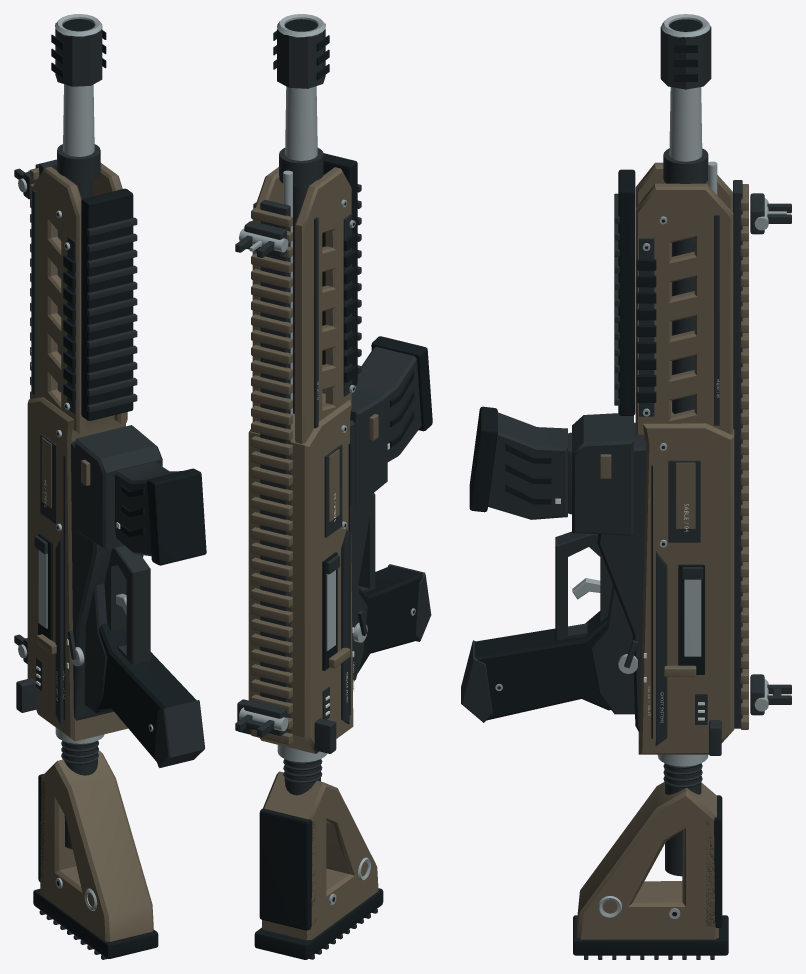
Rendered from rifle.glb.
3 renders of one model, left to right at view 1: azimuth 30°, elevation 25°; view 2: azimuth 150°, elevation 25°; view 3: azimuth 270°, elevation 25°, orthographic. The views are drawn at different scales.
Parts seen in each view (by area): view 1: 02_Graphite, 01_Cerakote, 04_Elastomer, 01_Cerakote.001, 04_Elastomer.001, 03_Titanium, 04_Elastomer.002, 02_Graphite.001, 02_Graphite.002, 03_Titanium.002; view 2: 01_Cerakote, 02_Graphite, 04_Elastomer, 01_Cerakote.001, 04_Elastomer.002, 03_Titanium, 02_Graphite.001, 04_Elastomer.001, 02_Graphite.002, 03_Titanium.002; view 3: 01_Cerakote, 02_Graphite, 04_Elastomer, 01_Cerakote.001, 02_Graphite.001, 03_Titanium, 04_Elastomer.002, 04_Elastomer.001, 02_Graphite.002, 03_Titanium.002.
Boxes of the visible parts, bbox=[...] form: 02_Graphite: bbox=[14, 22, 204, 767]; 01_Cerakote: bbox=[27, 163, 127, 741]; 04_Elastomer: bbox=[38, 19, 196, 761]; 01_Cerakote.001: bbox=[40, 750, 153, 941]; 04_Elastomer.001: bbox=[121, 468, 206, 565]; 03_Titanium: bbox=[18, 14, 153, 731]; 04_Elastomer.002: bbox=[33, 774, 158, 958]; 02_Graphite.001: bbox=[115, 462, 181, 556]; 02_Graphite.002: bbox=[39, 741, 106, 959]; 03_Titanium.002: bbox=[55, 727, 104, 910]; 01_Cerakote: bbox=[248, 167, 378, 753]; 02_Graphite: bbox=[235, 21, 431, 753]; 04_Elastomer: bbox=[273, 19, 422, 714]; 01_Cerakote.001: bbox=[262, 771, 378, 940]; 04_Elastomer.002: bbox=[254, 808, 383, 959]; 03_Titanium: bbox=[239, 14, 415, 731]; 02_Graphite.001: bbox=[355, 346, 421, 461]; 04_Elastomer.001: bbox=[371, 336, 432, 447]; 02_Graphite.002: bbox=[283, 759, 377, 959]; 03_Titanium.002: bbox=[277, 745, 370, 904]; 01_Cerakote: bbox=[600, 162, 748, 754]; 02_Graphite: bbox=[461, 22, 791, 755]; 04_Elastomer: bbox=[474, 19, 704, 738]; 01_Cerakote.001: bbox=[577, 782, 718, 939]; 02_Graphite.001: bbox=[488, 412, 571, 519]; 03_Titanium: bbox=[495, 14, 786, 711]; 04_Elastomer.002: bbox=[573, 795, 728, 955]; 04_Elastomer.001: bbox=[469, 406, 551, 512]; 02_Graphite.002: bbox=[584, 763, 714, 959]; 03_Titanium.002: bbox=[598, 754, 708, 918].
Size of the model in its own units: 0.0702 by 0.6536 by 0.212.
